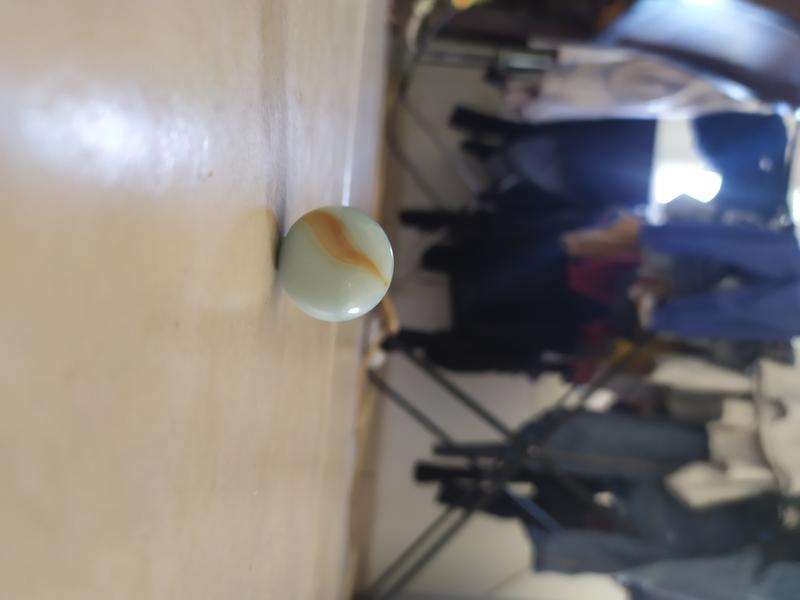Warning: (272, 202, 401, 327)
